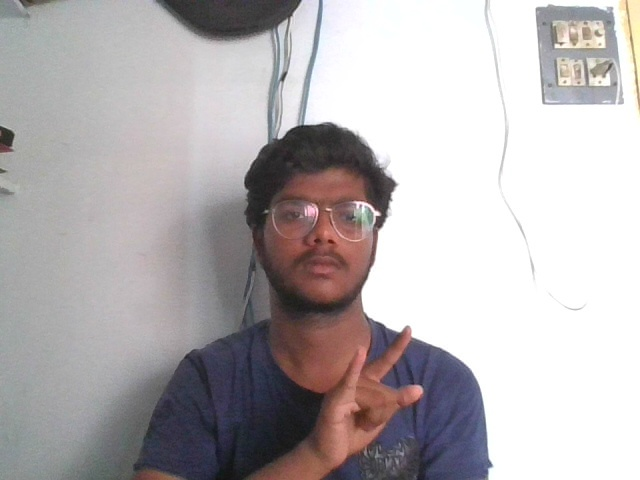IloveYou: (306, 322, 424, 464)
